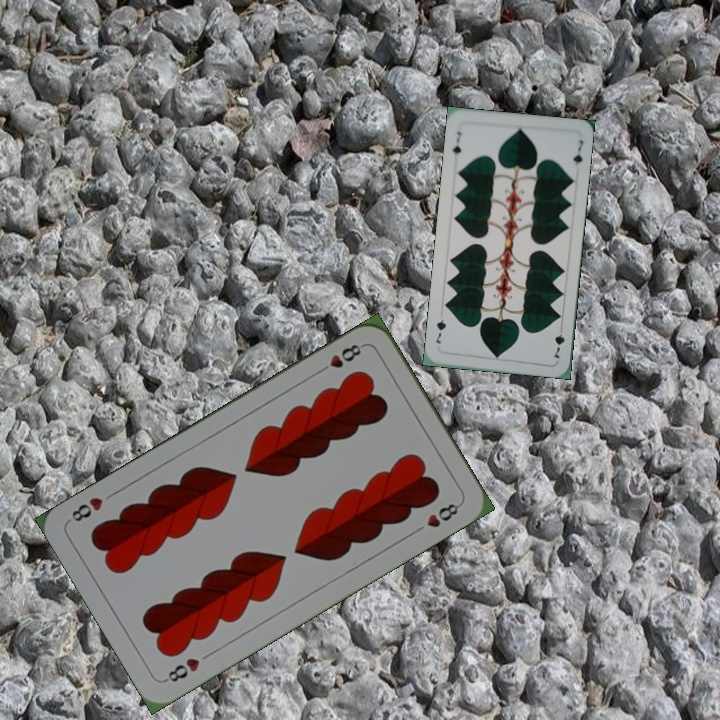G7: (551, 321, 567, 361), (448, 127, 464, 157)
H8: (314, 340, 367, 377), (160, 653, 203, 685)
